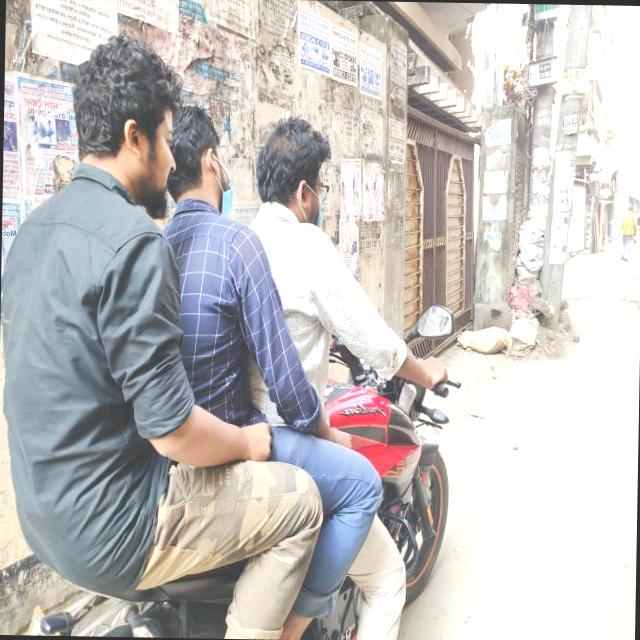motorcycle: (26, 289, 478, 640)
person: (0, 26, 194, 637), (198, 105, 382, 640), (90, 92, 268, 639)
rider_region: (0, 30, 478, 640)
